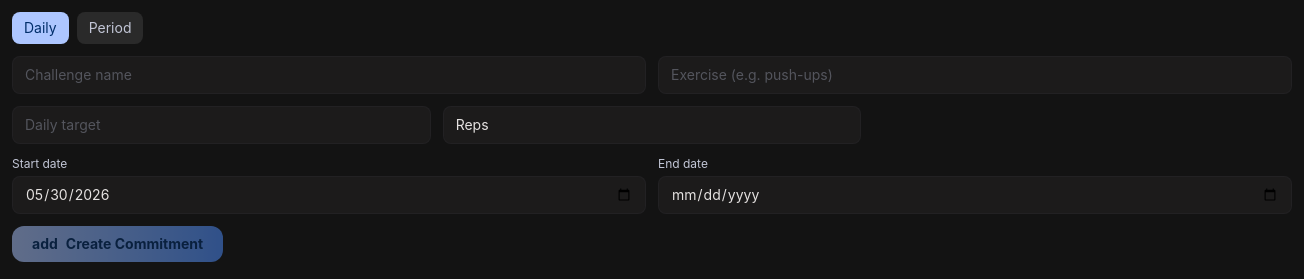
CommitmentCreateForm — aggregate cadence › switching to Period cadence shows aggregate fields
What coordinates should you click on to do the following:
click the button "Period"
I would click on:
 (110, 28)
Its box is [77,12,144,44].
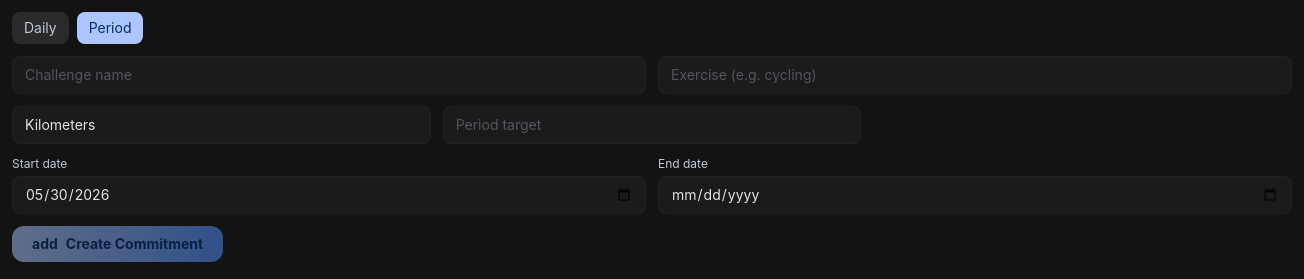
Check: the field with placeholder "Daily target" is not shown
Check: the number field with placeholder "Period target" is shown, box [443,106,861,144]
